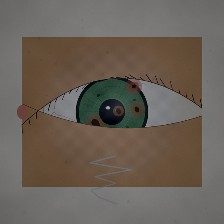foreign_body_visible: (122, 98, 152, 122)
